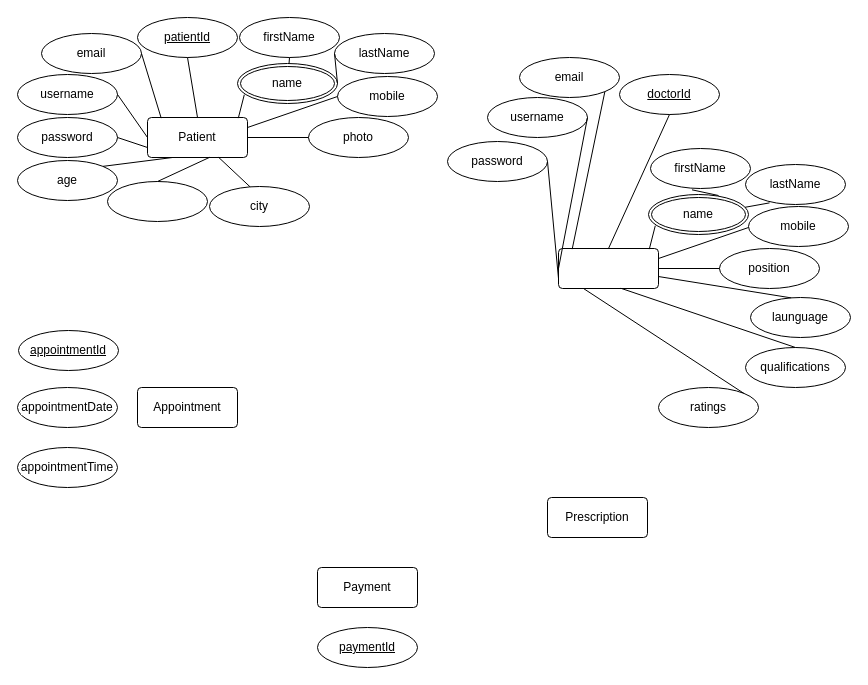
The diagram is 868 pixels wide and 685 high, and some of its shapes have lost their labels. Here are the shapes that lost their labels. From the top down, the box of each, then its label:
(106, 180, 208, 222): gender
(558, 248, 658, 288): Doctor
